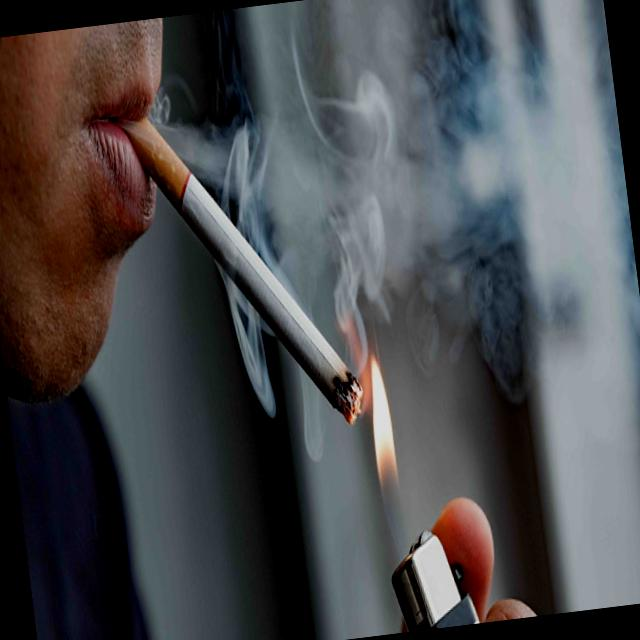cigarette: (159, 118, 424, 447)
